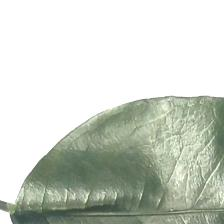healthy: (1, 108, 223, 224)
